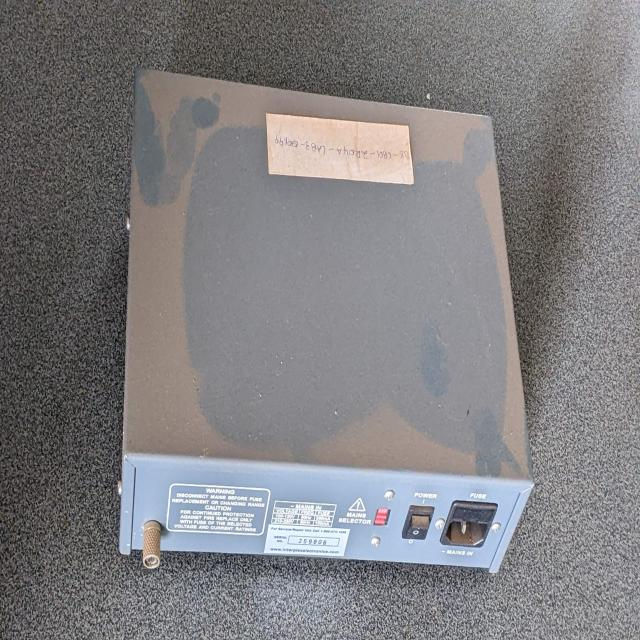A 200KHZ Function Generator: (115, 57, 539, 579)
